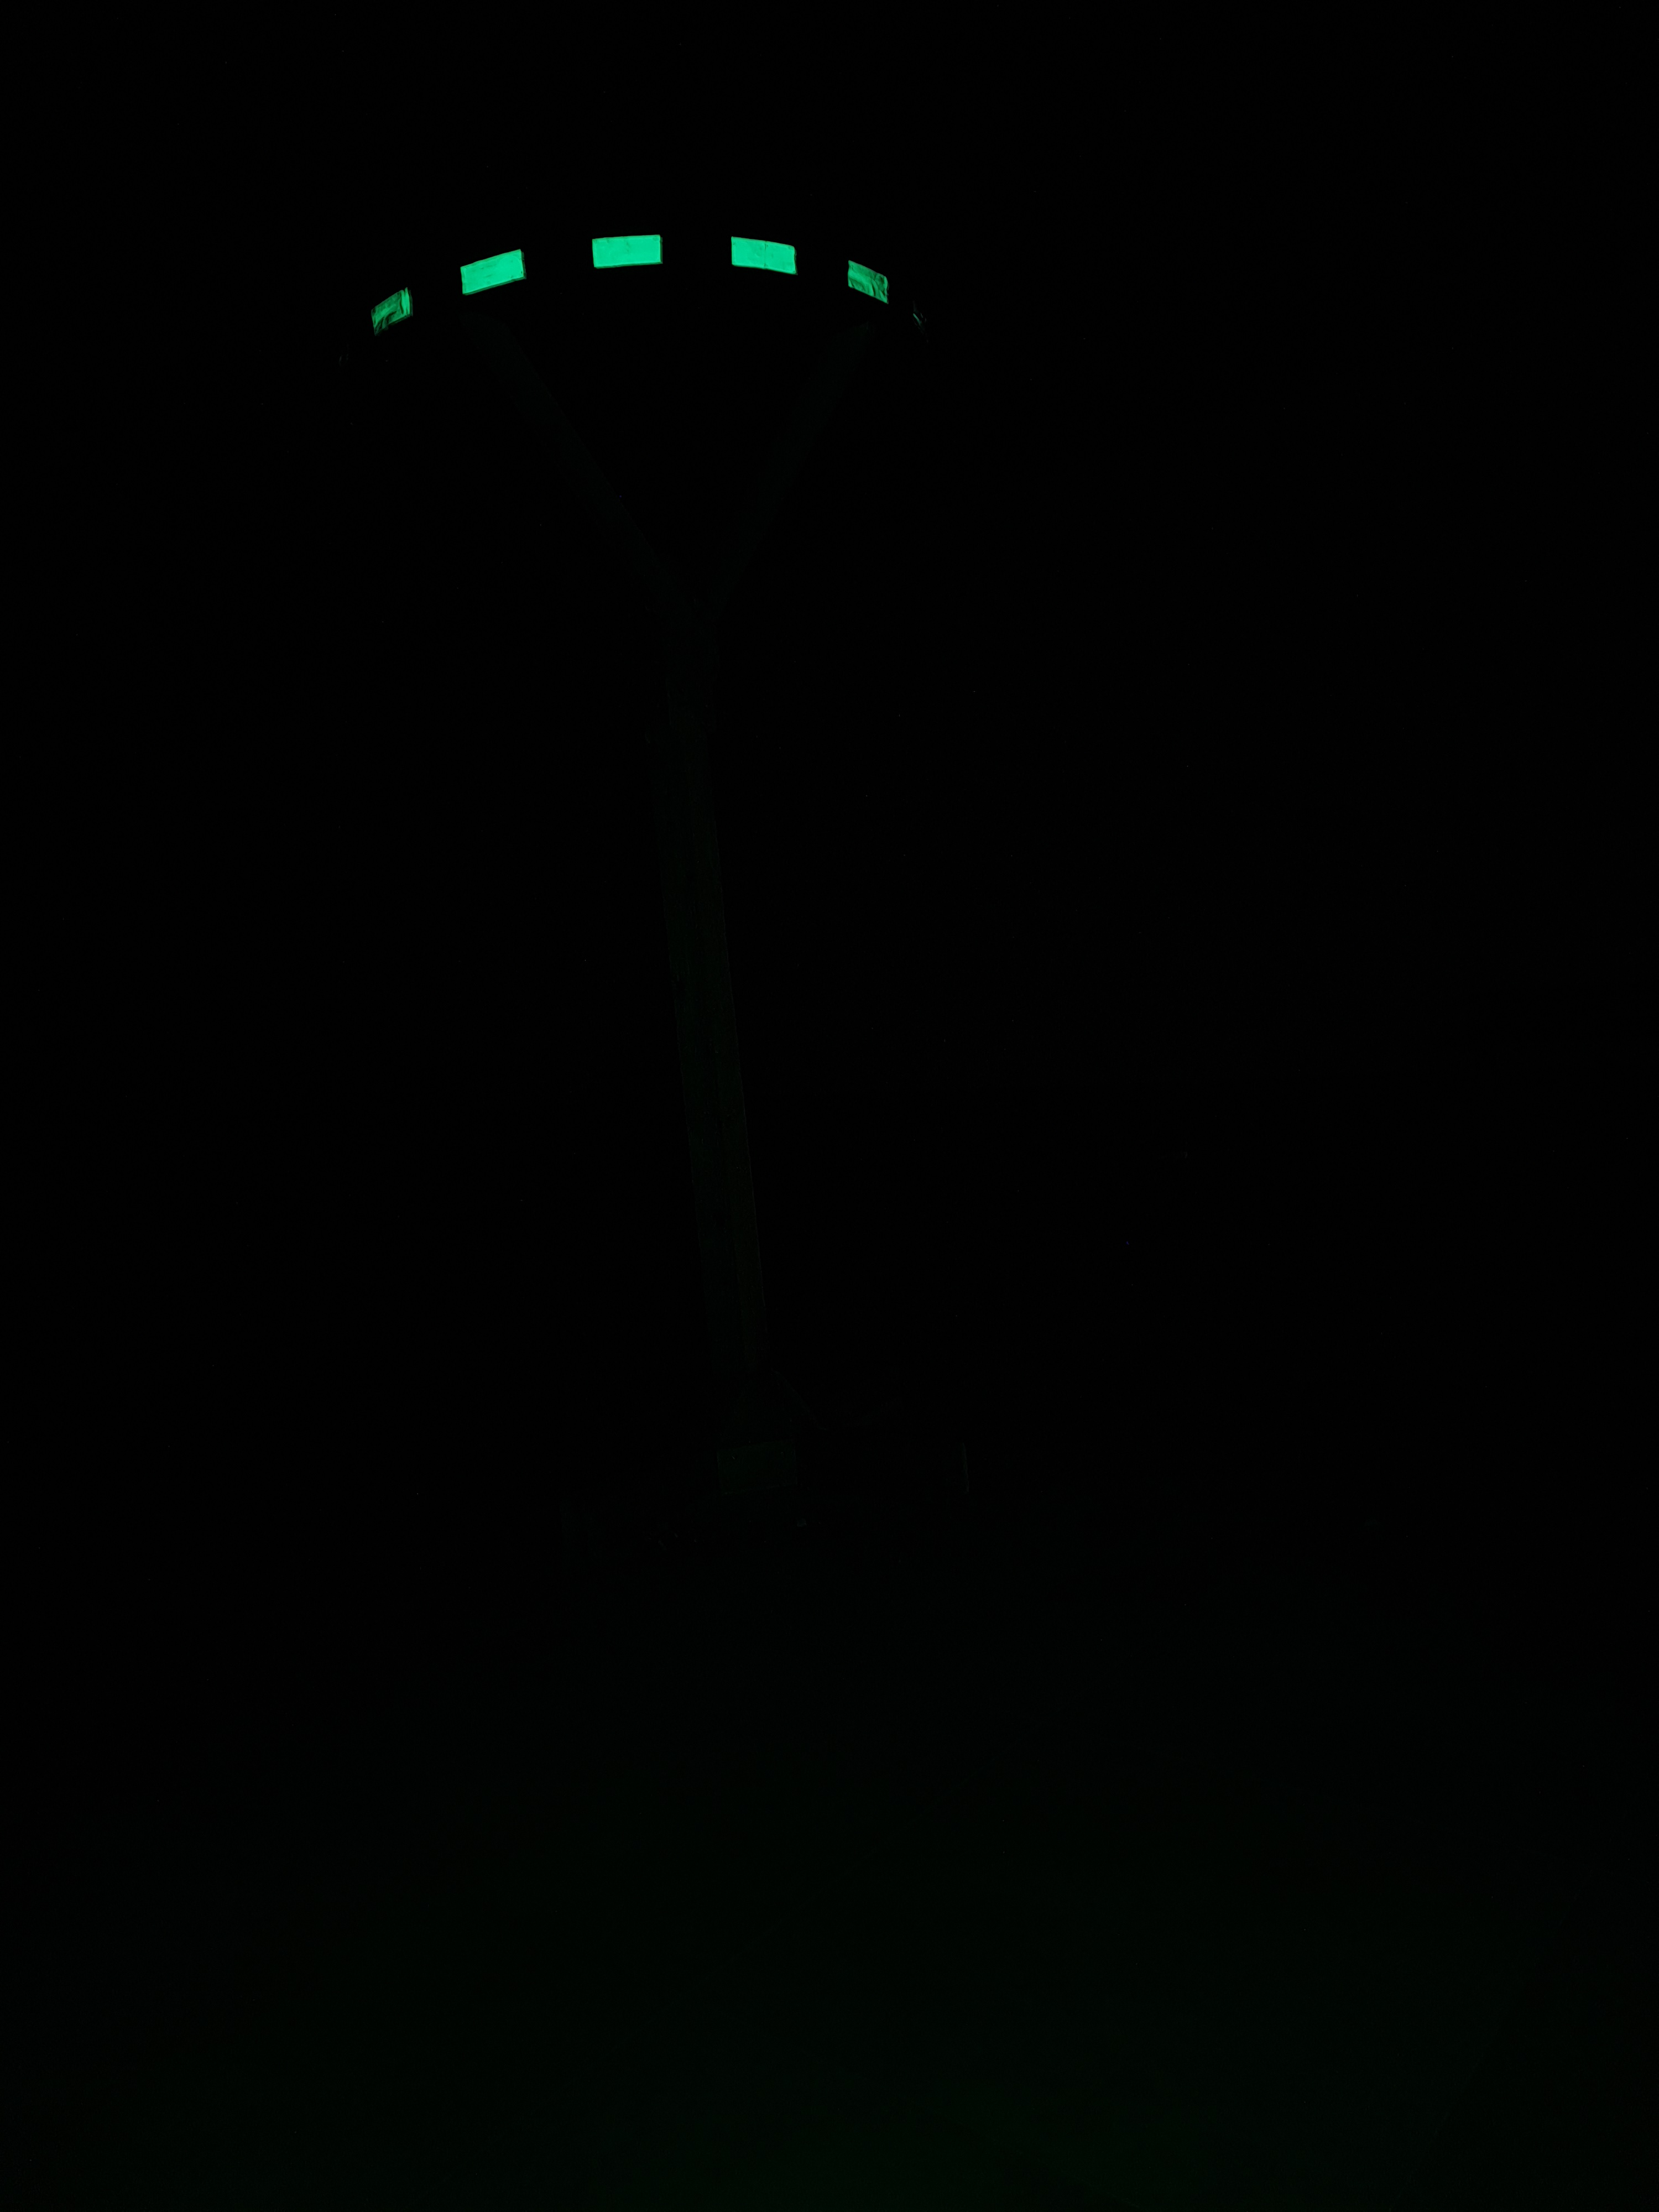hoop: (366, 232, 892, 336)
